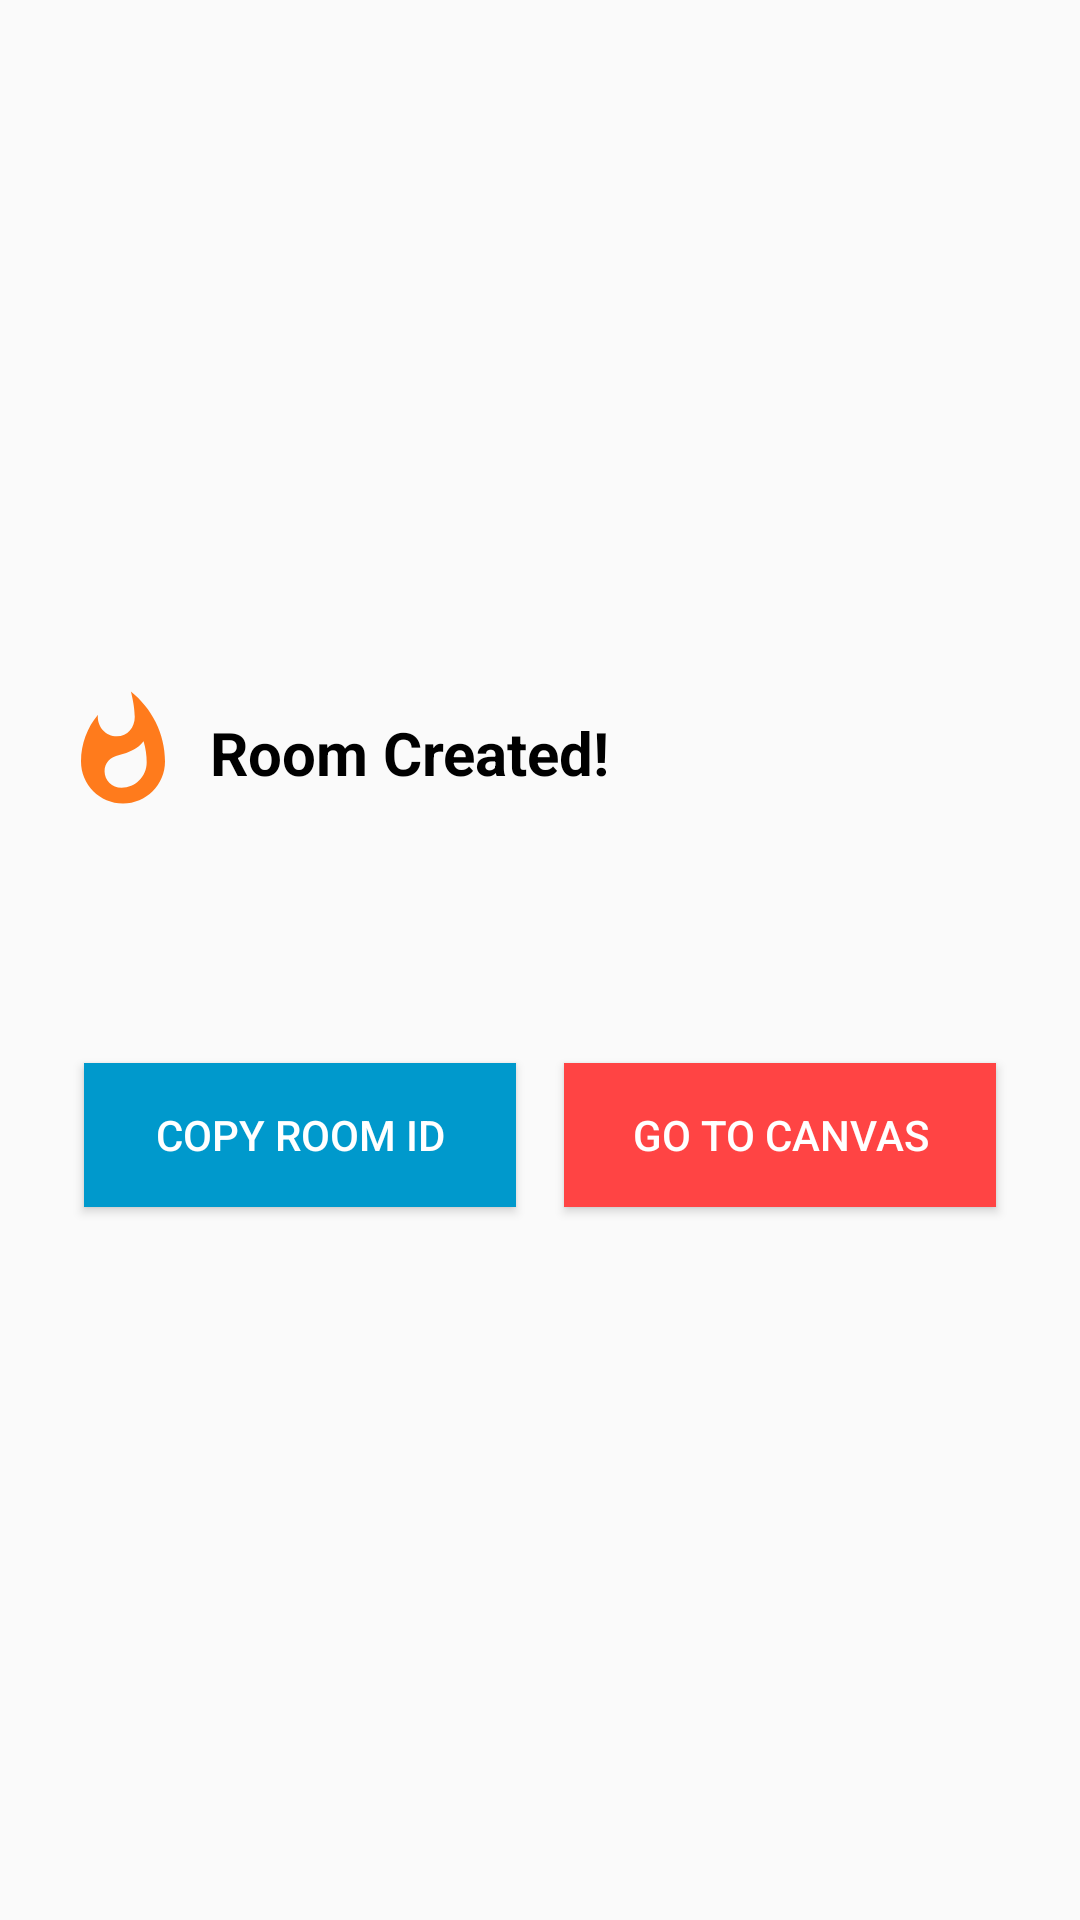

Locate icon controls on the screen. Image size 1080×1920, boxes as (x1, y1, x2, y2).
whatshot: (81, 692, 165, 804)
